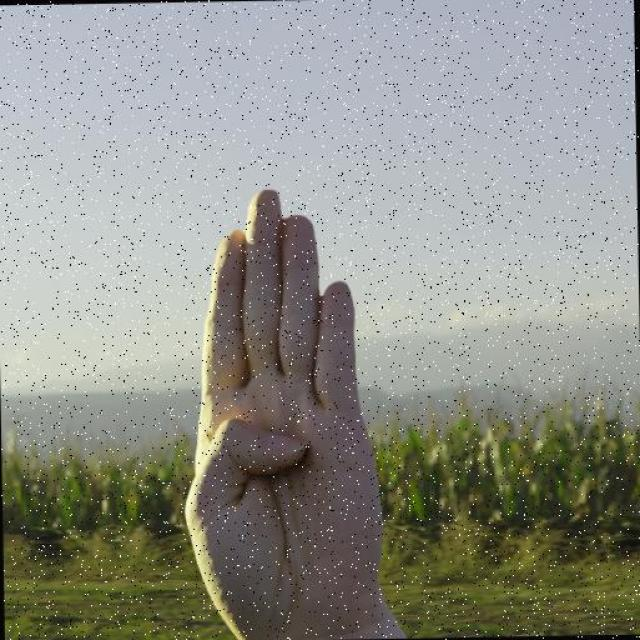B: (190, 182, 390, 634)
